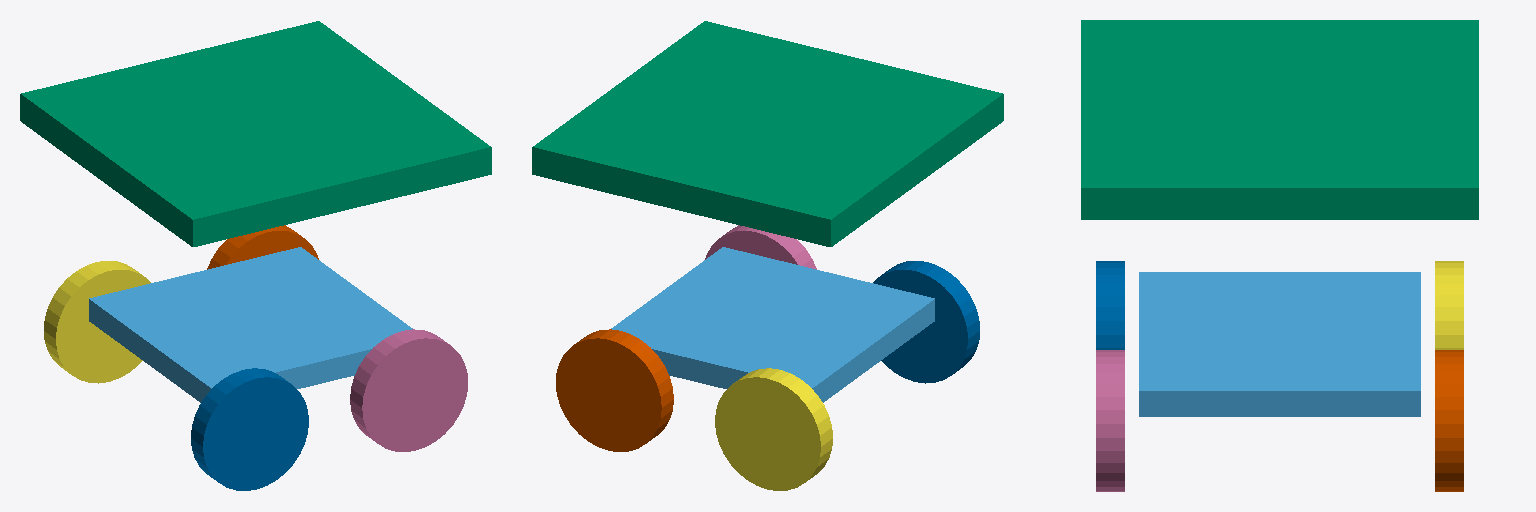
The robot description file, URDF, robot "bot4":
<?xml version="1.0" encoding="utf-8"?>
<!-- =================================================================================== -->
<!-- |    This document was autogenerated by xacro from bot.urdf.xacro                 | -->
<!-- |    EDITING THIS FILE BY HAND IS NOT RECOMMENDED                                 | -->
<!-- =================================================================================== -->
<robot name="bot4">
  <link name="base_link"/>
  <link name="base_link_inertia">
    <inertial>
      <origin rpy="0 0 0" xyz="0 0 0"/>
      <mass value="1"/>
      <inertia ixx="0.000538666666667" ixy="0" ixz="0" iyy="0.000538666666667" iyz="0" izz="0.00106666666667"/>
    </inertial>
    <collision>
      <origin rpy="0 0 0" xyz="0 0 0"/>
      <geometry>
        <box size="0.08 0.08 0.008"/>
      </geometry>
    </collision>
    <visual>
      <origin rpy="0 0 0" xyz="0 0 0"/>
      <geometry>
        <box size="0.08 0.08 0.008"/>
      </geometry>
    </visual>
    <!-- caster -->
    <!-- 	<collision name="caster_wheel_collision">
			<origin xyz="${length/2-0.02} 0 -0.02" rpy="0 0 0"/>
			<geometry>
				<sphere radius="${wheel_dia/4.0}"/>
			</geometry>			
			<surface>
		        <friction>
		          <ode>
		            <mu>0</mu>
		            <mu2>0</mu2>
		            <slip1>1.0</slip1>
		            <slip2>1.0</slip2>
		          </ode>
		        </friction>
      		</surface>
		</collision>
		<visual name ="caster_wheel_visual">
			<origin xyz="${length/2-0.02} 0 -0.02" rpy="0 0 0"/>
			<geometry>
				<sphere radius="${wheel_dia/4.0}"/>
			</geometry>
		</visual> -->
  </link>
  <link name="aruco">
    <inertial>
      <origin rpy="0 0 0" xyz="0 0 0"/>
      <mass value="0.04"/>
      <inertia ixx="2.15466666667e-05" ixy="0" ixz="0" iyy="2.15466666667e-05" iyz="0" izz="4.26666666667e-05"/>
    </inertial>
    <collision>
      <origin rpy="0 0 0" xyz="0 0 0"/>
      <geometry>
        <mesh filename="package://bot_description/meshes/bot4.dae" scale="1.25 1.25 1.25"/>
      </geometry>
    </collision>
    <visual>
      <origin rpy="0 0 0" xyz="0 0 0"/>
      <geometry>
        <mesh filename="package://bot_description/meshes/bot4.dae" scale="1.25 1.25 1.25"/>
      </geometry>
    </visual>
  </link>
  <link name="left_wheel">
    <inertial>
      <origin rpy="0 0 0" xyz="0 0 0"/>
      <mass value="0.4"/>
      <inertia ixx="4.21333333333e-05" ixy="0" ixz="0" iyy="4.21333333333e-05" iyz="0" izz="8e-05"/>
    </inertial>
    <collision>
      <origin rpy="0 0 0" xyz="0 0 0"/>
      <geometry>
        <cylinder length="0.008" radius="0.02"/>
      </geometry>
    </collision>
    <visual>
      <origin rpy="0 0 0" xyz="0 0 0"/>
      <geometry>
        <cylinder length="0.008" radius="0.02"/>
      </geometry>
    </visual>
  </link>
  <link name="right_wheel">
    <inertial>
      <origin rpy="0 0 0" xyz="0 0 0"/>
      <mass value="0.4"/>
      <inertia ixx="4.21333333333e-05" ixy="0" ixz="0" iyy="4.21333333333e-05" iyz="0" izz="8e-05"/>
    </inertial>
    <collision>
      <origin rpy="0 0 0" xyz="0 0 0"/>
      <geometry>
        <cylinder length="0.008" radius="0.02"/>
      </geometry>
    </collision>
    <visual>
      <origin rpy="0 0 0" xyz="0 0 0"/>
      <geometry>
        <cylinder length="0.008" radius="0.02"/>
      </geometry>
    </visual>
  </link>
  <link name="left_wheel_dumy">
    <inertial>
      <origin rpy="0 0 0" xyz="0 0 0"/>
      <mass value="0.4"/>
      <inertia ixx="4.21333333333e-05" ixy="0" ixz="0" iyy="4.21333333333e-05" iyz="0" izz="8e-05"/>
    </inertial>
    <collision>
      <origin rpy="0 0 0" xyz="0 0 0"/>
      <geometry>
        <cylinder length="0.008" radius="0.02"/>
      </geometry>
    </collision>
    <visual>
      <origin rpy="0 0 0" xyz="0 0 0"/>
      <geometry>
        <cylinder length="0.008" radius="0.02"/>
      </geometry>
    </visual>
  </link>
  <link name="right_wheel_dumy">
    <inertial>
      <origin rpy="0 0 0" xyz="0 0 0"/>
      <mass value="0.4"/>
      <inertia ixx="4.21333333333e-05" ixy="0" ixz="0" iyy="4.21333333333e-05" iyz="0" izz="8e-05"/>
    </inertial>
    <collision>
      <origin rpy="0 0 0" xyz="0 0 0"/>
      <geometry>
        <cylinder length="0.008" radius="0.02"/>
      </geometry>
    </collision>
    <visual>
      <origin rpy="0 0 0" xyz="0 0 0"/>
      <geometry>
        <cylinder length="0.008" radius="0.02"/>
      </geometry>
    </visual>
  </link>
  <!-- <link name="caster_wheel">
		<inertial>
     		<origin xyz="0 0 0" rpy="0 0 0"/>
     		<mass value="${m_caster_wheel}"/>
     		<inertia ixx="${m_caster_wheel*(2*wheel_dia*wheel_dia/16.0)/5.0}"  ixy="0"  ixz="0" iyy="${m_caster_wheel*(2*wheel_dia*wheel_dia/16.0)/5.0}" iyz="0" izz="${m_caster_wheel*(2*wheel_dia*wheel_dia/16.0)/5.0}" />
   		</inertial>
		<collision>
			<origin xyz="0 0 0" rpy="0 0 0"/>
			<geometry>
				<sphere radius="${wheel_dia/4.0}"/>
			</geometry>			
			<surface>
		        <friction>
		          <ode>
		            <mu>0</mu>
		            <mu2>0</mu2>
		            <slip1>1.0</slip1>
		            <slip2>1.0</slip2>
		          </ode>
		        </friction>
      		</surface>
		</collision>
		<visual>
			<origin xyz="0 0 0" rpy="0 0 0"/>
			<geometry>
				<sphere radius="${wheel_dia/4.0}"/>
			</geometry>
		</visual>
	</link> -->
  <!-- joints def -->
  <joint name="base_link_inertia_joint_4" type="fixed">
    <parent link="base_link"/>
    <child link="base_link_inertia"/>
    <origin rpy="0 0 0" xyz="0 0 0"/>
  </joint>
  <joint name="aruco_joint_4" type="fixed">
    <parent link="base_link"/>
    <child link="aruco"/>
    <origin rpy="0 0 0" xyz="0 0 0.07"/>
  </joint>
  <joint name="bot4_left_wheel_joint" type="continuous">
    <parent link="base_link"/>
    <child link="left_wheel"/>
    <origin rpy="0 1.570795 1.570795" xyz="-0.03 0.048  -0.01"/>
    <axis rpy="0 0 0" xyz="0 0 1"/>
  </joint>
  <joint name="bot4_right_wheel_joint" type="continuous">
    <parent link="base_link"/>
    <child link="right_wheel"/>
    <origin rpy="0 1.570795 1.570795" xyz="-0.03 -0.048  -0.01"/>
    <axis rpy="0 0 0" xyz="0 0 1"/>
  </joint>
  <joint name="bot4_left_wheel_joint_dumy" type="continuous">
    <parent link="base_link"/>
    <child link="left_wheel_dumy"/>
    <origin rpy="0 1.570795 1.570795" xyz="0.03 0.048  -0.01"/>
    <axis rpy="0 0 0" xyz="0 0 1"/>
  </joint>
  <joint name="bot4_right_wheel_joint_dumy" type="continuous">
    <parent link="base_link"/>
    <child link="right_wheel_dumy"/>
    <origin rpy="0 1.570795 1.570795" xyz="0.03 -0.048  -0.01"/>
    <axis rpy="0 0 0" xyz="0 0 1"/>
  </joint>
  <!-- controls plugin for vlecoty based control -->
  <gazebo>
    <plugin filename="libgazebo_ros_diff_drive.so" name="differential_drive_controller">
      <alwaysOn>true</alwaysOn>
      <updateRate>2</updateRate>
      <leftJoint>bot4_left_wheel_joint</leftJoint>
      <rightJoint>bot4_right_wheel_joint</rightJoint>
      <wheelSeparation>0.096</wheelSeparation>
      <wheelDiameter>0.04</wheelDiameter>
      <torque>1</torque>
      <commandTopic>cmd_vel</commandTopic>
      <odometryTopic>odom</odometryTopic>
      <odometryFrame>odom</odometryFrame>
      <robotBaseFrame>base_link</robotBaseFrame>
    </plugin>
  </gazebo>
  <gazebo>
    <plugin filename="libgazebo_ros_diff_drive.so" name="differential_drive_controller">
      <alwaysOn>true</alwaysOn>
      <updateRate>2</updateRate>
      <leftJoint>bot4_left_wheel_joint_dumy</leftJoint>
      <rightJoint>bot4_right_wheel_joint_dumy</rightJoint>
      <wheelSeparation>0.096</wheelSeparation>
      <wheelDiameter>0.04</wheelDiameter>
      <torque>1</torque>
      <commandTopic>cmd_vel_dumy</commandTopic>
      <odometryTopic>odom</odometryTopic>
      <odometryFrame>odom</odometryFrame>
      <robotBaseFrame>base_link</robotBaseFrame>
    </plugin>
  </gazebo>
</robot>

--- What the picture shows (computed from the rendered views, not written in the file) ---
Views: 3 orthographic renders of the robot side by side, from view 1: azimuth 30°, elevation 25°; view 2: azimuth 150°, elevation 25°; view 3: azimuth 270°, elevation 25°.
Robot: bot4 — 7 links, 6 joints (4 continuous, 2 fixed); root link base_link; default pose: every joint at zero.
Visible links, largest first — view 1: aruco, base_link_inertia, right_wheel, right_wheel_dumy, left_wheel, left_wheel_dumy; view 2: aruco, base_link_inertia, left_wheel, left_wheel_dumy, right_wheel, right_wheel_dumy; view 3: aruco, base_link_inertia, left_wheel_dumy, right_wheel_dumy, left_wheel, right_wheel.
Boxes of the visible links, x1,y1,x2,y2 form: aruco: (20,21,491,246); base_link_inertia: (89,247,412,402); right_wheel: (191,368,308,490); right_wheel_dumy: (350,329,467,451); left_wheel: (44,261,150,383); left_wheel_dumy: (207,225,318,269); aruco: (532,21,1003,246); base_link_inertia: (611,247,934,402); left_wheel: (715,368,832,490); left_wheel_dumy: (556,329,673,451); right_wheel: (873,261,979,383); right_wheel_dumy: (705,225,816,269); aruco: (1081,20,1478,219); base_link_inertia: (1139,272,1420,416); left_wheel_dumy: (1435,350,1463,491); right_wheel_dumy: (1096,350,1124,491); left_wheel: (1435,261,1463,349); right_wheel: (1096,261,1124,349).
Size in the robot's own frame: 0.1125 by 0.1125 by 0.105 metres.
1 mesh visuals loaded from 1 distinct referenced files (1 Collada DAE).